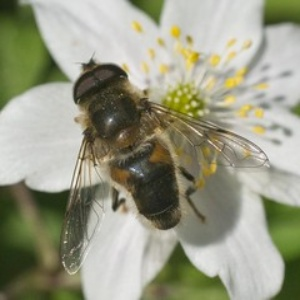bee: (59, 50, 271, 283)
